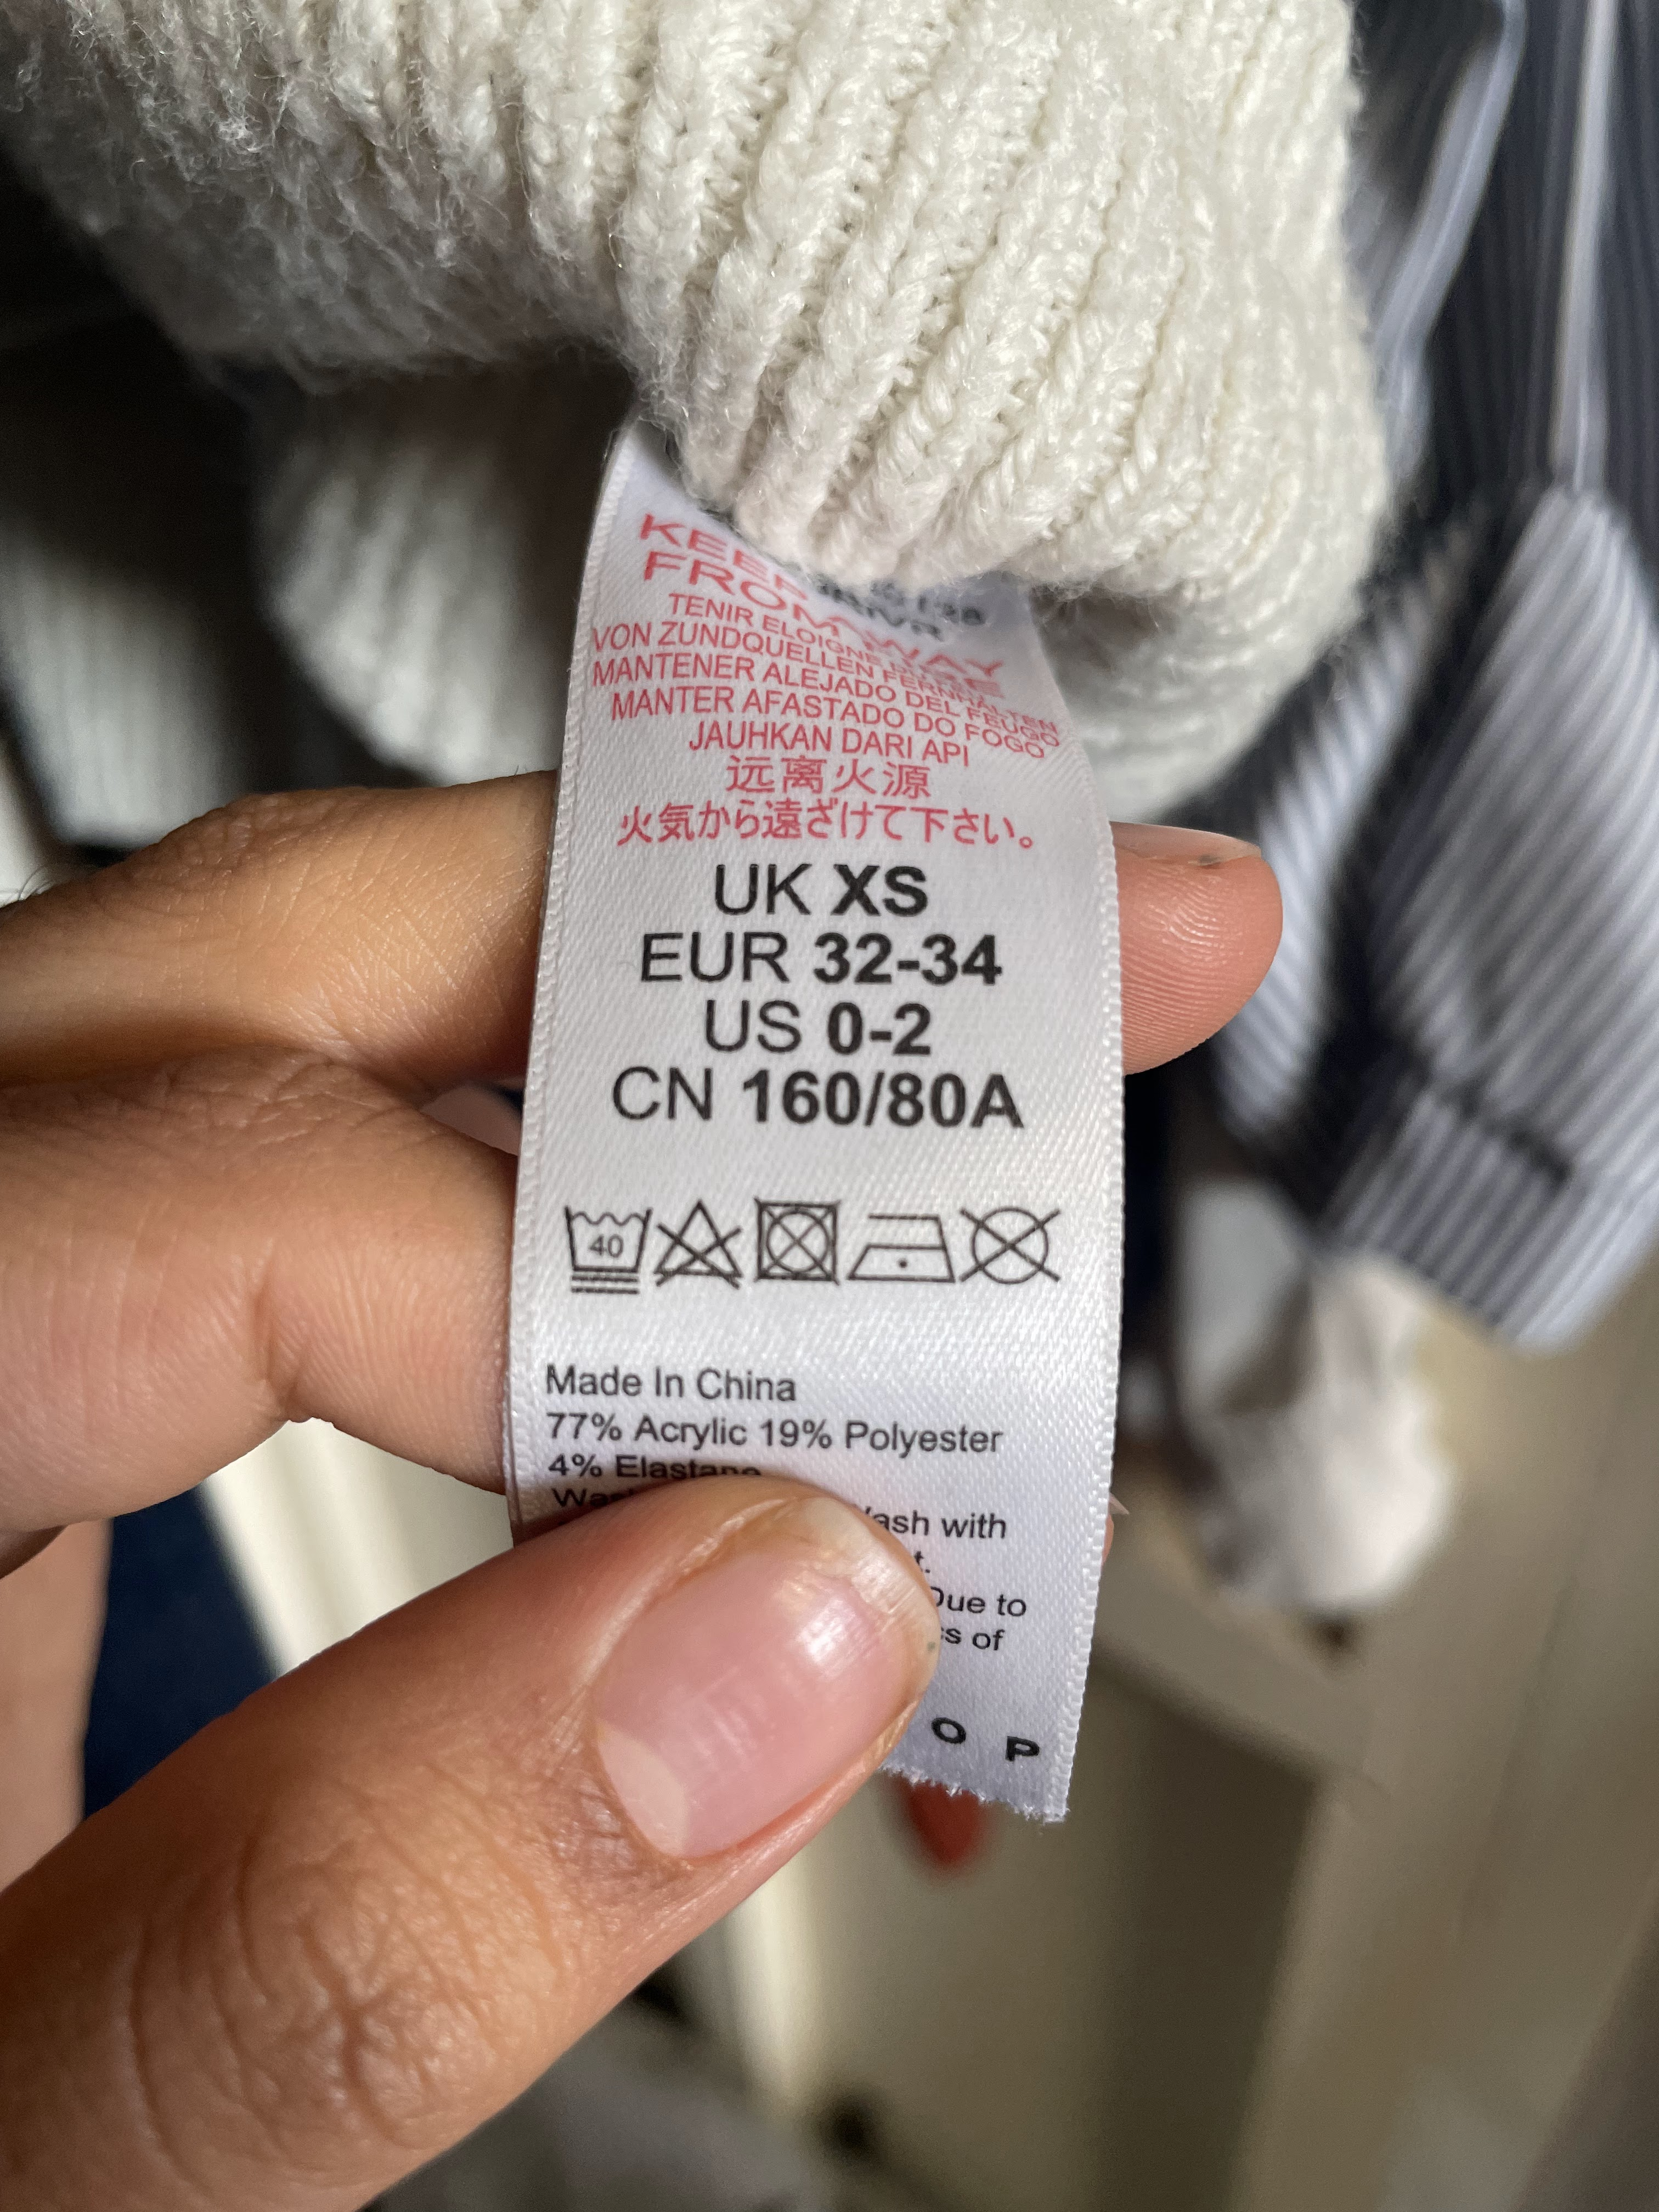do not bleach: (647, 1195, 746, 1299)
do not dry clean: (955, 1193, 1066, 1301)
do not tumble dry: (735, 1181, 854, 1303)
iron low temp: (850, 1195, 957, 1294)
wash at or below 40: (561, 1188, 655, 1299)
